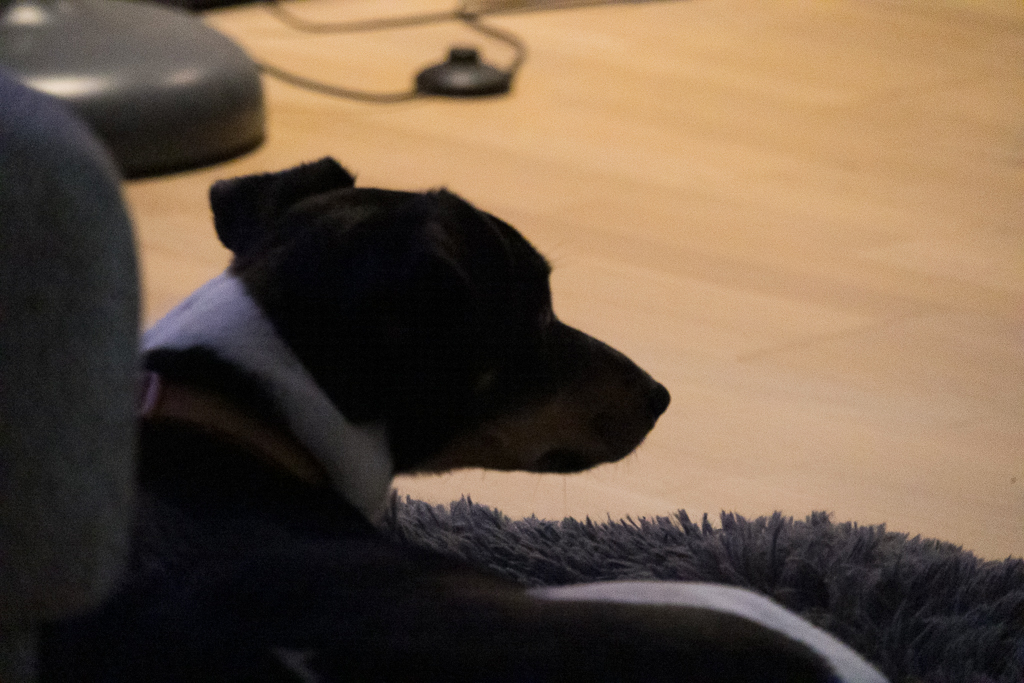Dog: (41, 142, 900, 683)
